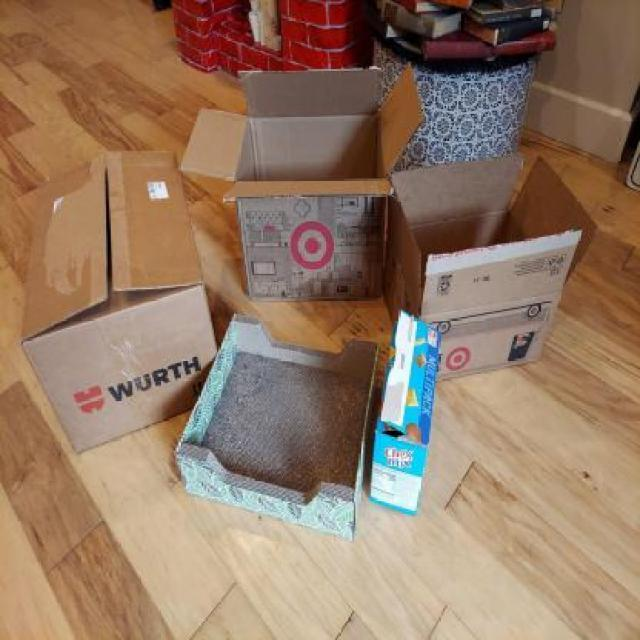box: (21, 145, 222, 463), (187, 68, 417, 310), (385, 143, 591, 379)
